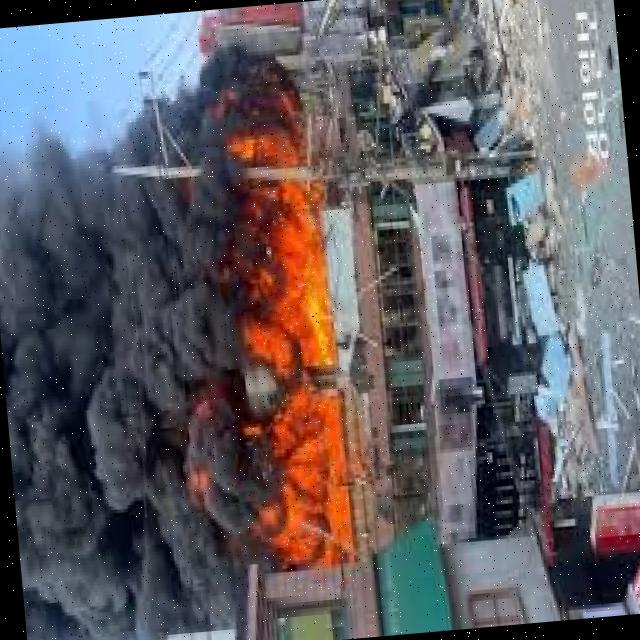explosion: (0, 21, 405, 640)
